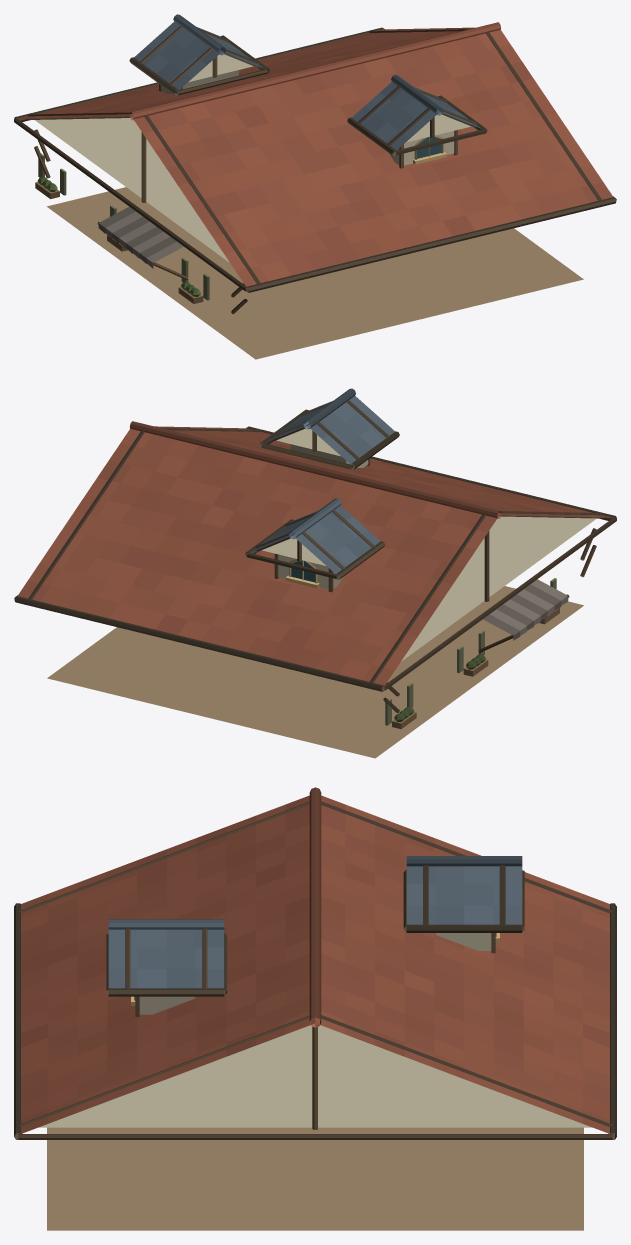
3 views of the same model, one above another, from view 1: azimuth 30°, elevation 25°; view 2: azimuth 150°, elevation 25°; view 3: azimuth 270°, elevation 25° (orthographic). The views are drawn at different scales.
Visible parts, largest first — view 1: de82ae84d81cb92c0908028b9d8964edda5c643caf313b31c9d8fa15f4b2; view 2: de82ae84d81cb92c0908028b9d8964edda5c643caf313b31c9d8fa15f4b2; view 3: de82ae84d81cb92c0908028b9d8964edda5c643caf313b31c9d8fa15f4b2.
Boxes of the visible parts, left/top/right/bottom form: de82ae84d81cb92c0908028b9d8964edda5c643caf313b31c9d8fa15f4b2: left=14, top=14, right=616, bottom=359; de82ae84d81cb92c0908028b9d8964edda5c643caf313b31c9d8fa15f4b2: left=14, top=388, right=616, bottom=758; de82ae84d81cb92c0908028b9d8964edda5c643caf313b31c9d8fa15f4b2: left=14, top=787, right=616, bottom=1230.
Bounding box in the file's own units: 11.63 × 5.19 × 12.02.
Materials: 7 (1 with a texture image).
